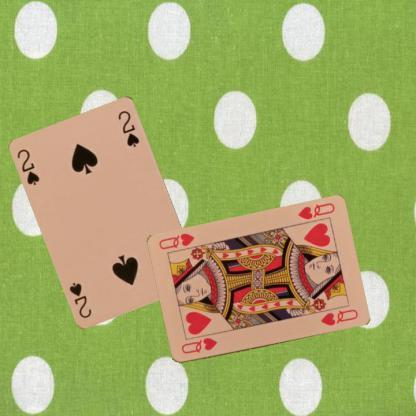2s: (16, 146, 42, 187)
Qh: (295, 200, 336, 221), (178, 335, 219, 355)
